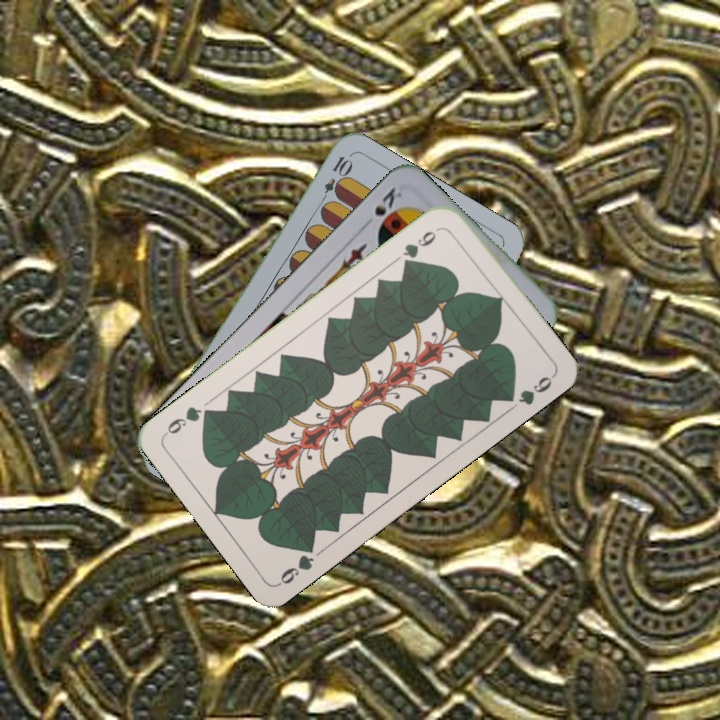E10: (315, 152, 354, 208)
G9: (274, 538, 318, 588), (398, 226, 439, 270)
SK: (370, 183, 405, 219)
